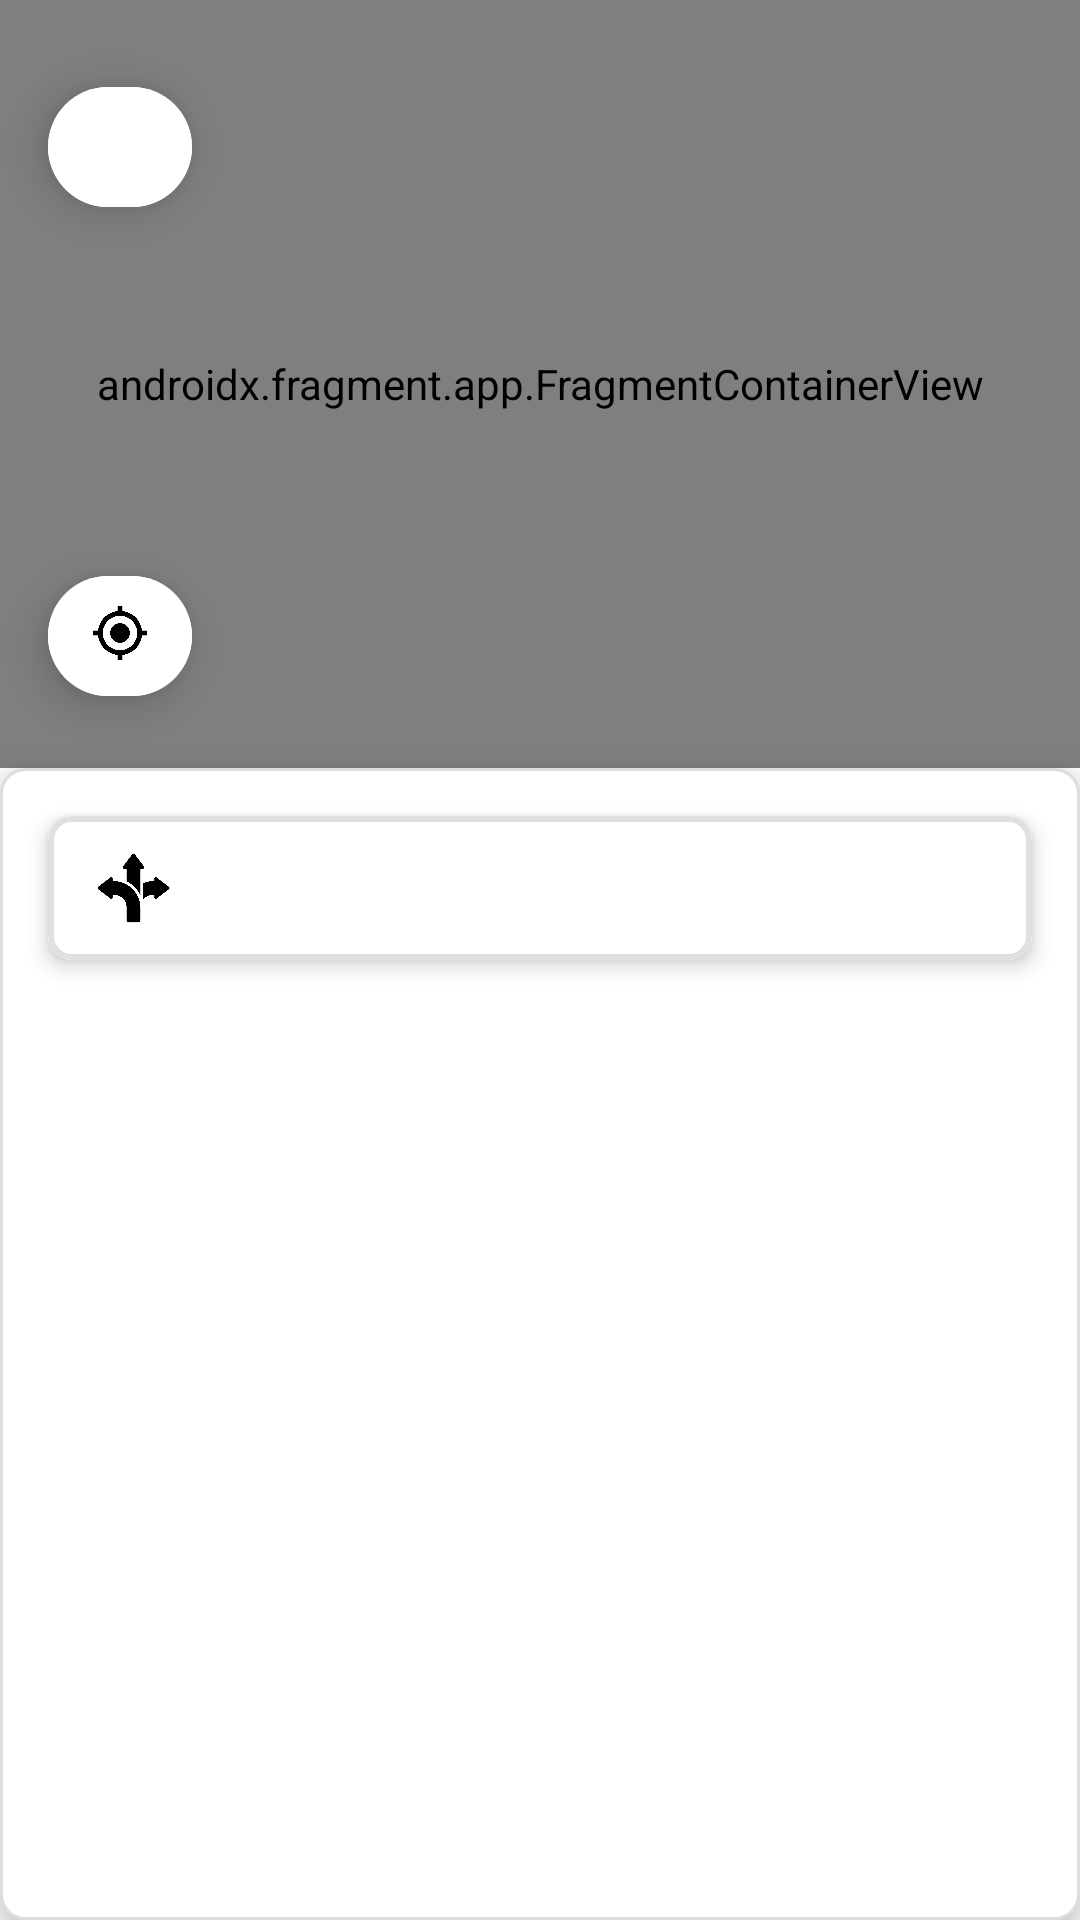

Screen size 1080px x 1920px. Icon name, then its box in pixels as (x1, y1, x2, y2):
current location: (48, 576, 192, 696)
